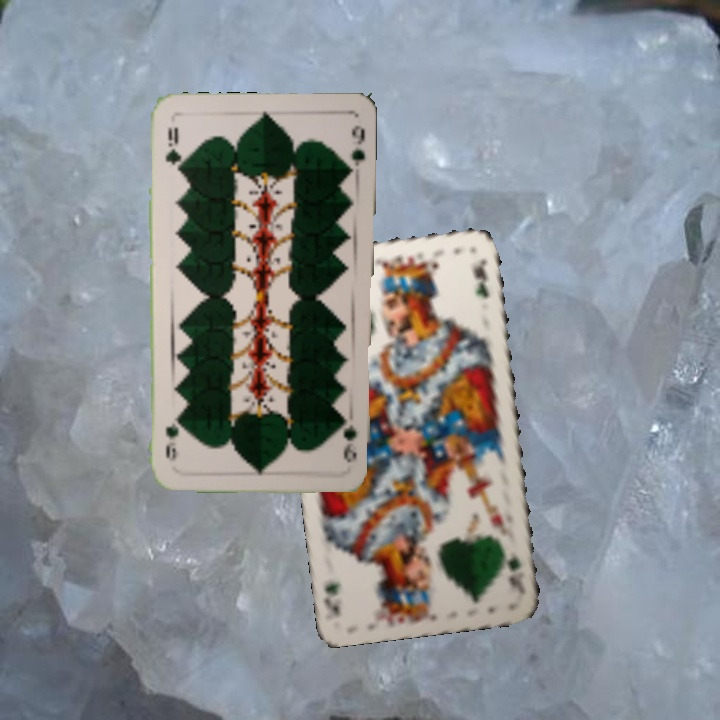G9: (161, 123, 182, 173), (340, 411, 359, 465)
GK: (503, 549, 528, 598)
